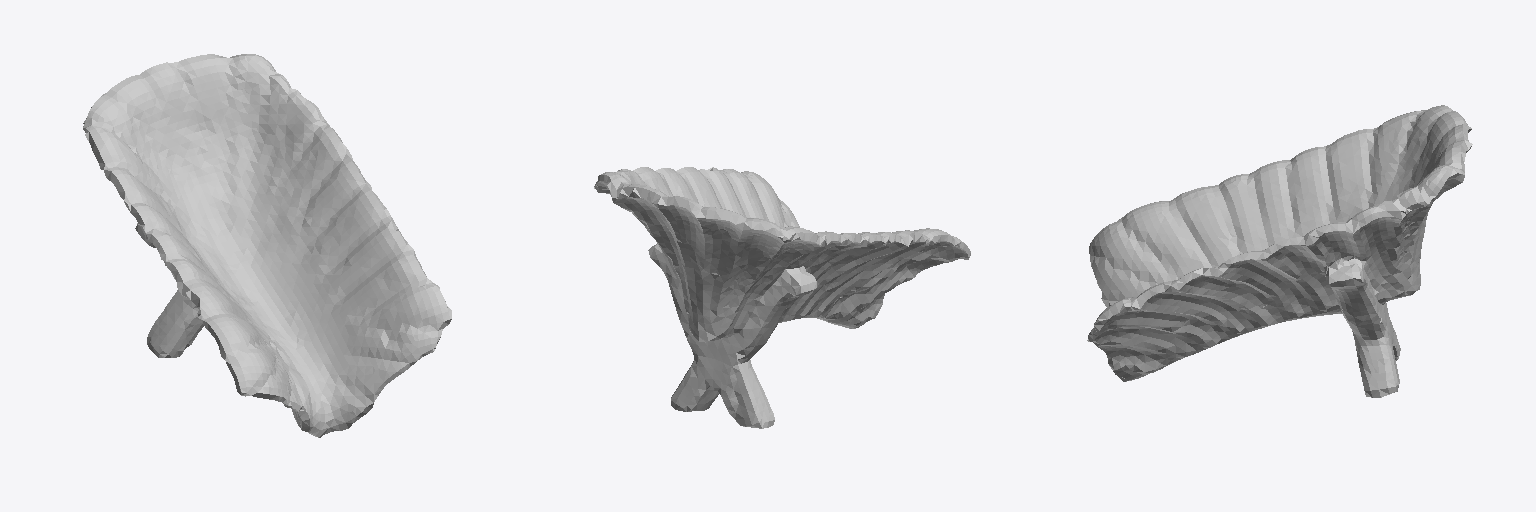
File: mangiatoia.obj
The picture shows the model from 3 angles: view 1: azimuth 30°, elevation 25°; view 2: azimuth 150°, elevation 25°; view 3: azimuth 270°, elevation 25°; orthographic projection.
Parts seen in each view (by area): view 1: MVFC3832a_manjedoura_LP1; view 2: MVFC3832a_manjedoura_LP1; view 3: MVFC3832a_manjedoura_LP1.
Part boxes in pixels (x1,y1,x2,y2): MVFC3832a_manjedoura_LP1: (83,54,451,437); MVFC3832a_manjedoura_LP1: (594,167,970,428); MVFC3832a_manjedoura_LP1: (1087,105,1472,397).
Bounding box in the file's own units: 0.0717 × 0.0781 × 0.1083.